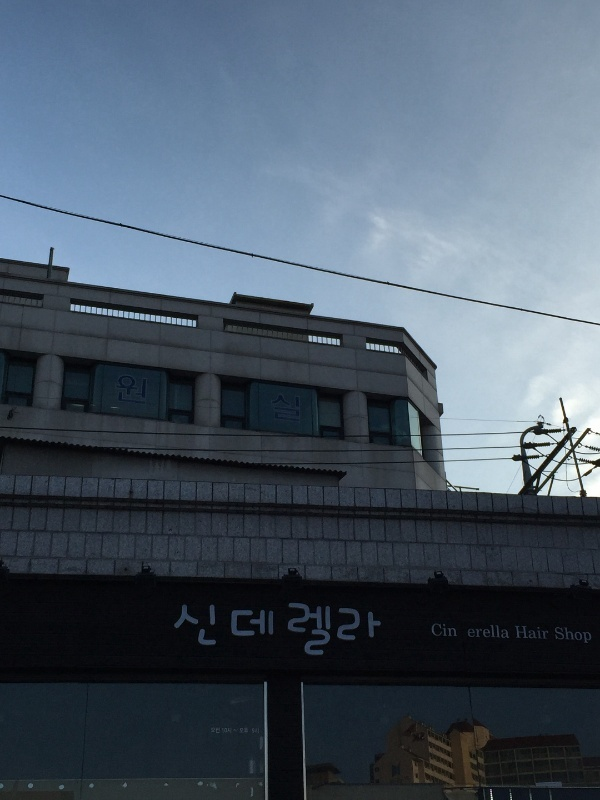text: (289, 599, 304, 661), (305, 599, 320, 661), (321, 599, 336, 661), (337, 599, 352, 661), (353, 599, 368, 661), (369, 599, 384, 661), (177, 601, 192, 649), (193, 601, 208, 649), (209, 601, 224, 649), (225, 601, 240, 649), (241, 601, 256, 649), (257, 601, 272, 649), (129, 373, 144, 407), (273, 393, 288, 423), (116, 373, 128, 407), (289, 393, 302, 423), (561, 625, 576, 645), (577, 625, 592, 645), (481, 623, 496, 641), (529, 624, 544, 642), (433, 622, 448, 639), (497, 623, 511, 641), (515, 624, 528, 642), (468, 623, 480, 641), (449, 622, 458, 639), (273, 601, 276, 649), (225, 727, 238, 735), (555, 625, 560, 645), (211, 727, 224, 734), (545, 624, 549, 642), (145, 373, 147, 407), (287, 599, 288, 661), (241, 727, 249, 734), (252, 727, 256, 734), (257, 727, 260, 734), (222, 727, 224, 735), (239, 727, 240, 734)
